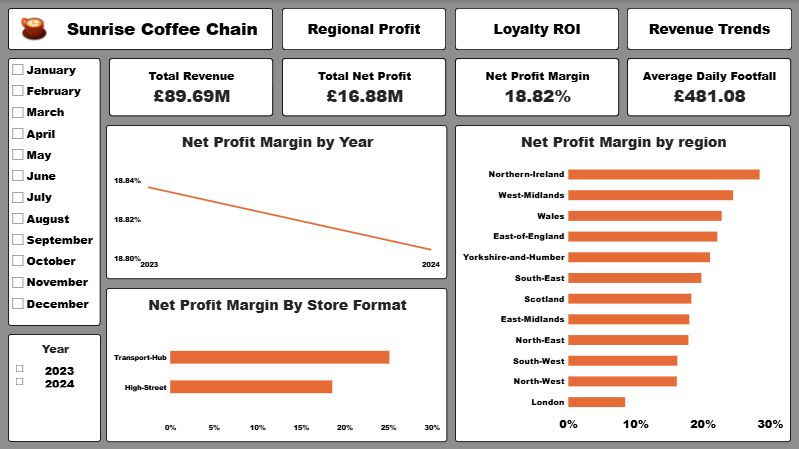

What the dashboard file says about the page in this screenshot:
{"tool":"powerbi","page":{"name":"Regional Profit","canvas":[1920,1080],"ordinal":0},"visuals":[{"type":"cardVisual","fields":{"Data":["fact_store_monthly_profitability.Total Revenue"]},"box":[262,140,394,140],"z":0},{"type":"cardVisual","fields":{"Data":["fact_store_monthly_profitability.Total Net Profit"]},"box":[676,140,394,140],"z":1000},{"type":"cardVisual","fields":{"Data":["fact_store_monthly_profitability.Net Profit Margin"]},"box":[1091,140,394,140],"z":2000},{"type":"lineChart","fields":{"Category":["dim_date.full_date.Variation.Date Hierarchy.Year"],"Y":["fact_store_monthly_profitability.Net Profit Margin"]},"box":[254.4,300,819,370],"z":3000},{"type":"slicer","fields":{"Values":["dim_date.month_name"]},"box":[20,140,222,643.2],"z":4000},{"type":"listSlicer","title":"Year","fields":{"Values":["dim_date.year"]},"box":[19.2,801.6,223.2,259.2],"z":5000},{"type":"barChart","title":"Net Profit Margin By Store Format","fields":{"Category":["dim_store.store_format"],"Y":["fact_store_monthly_profitability.Net Profit Margin"]},"box":[254.4,690,819,370],"z":6000},{"type":"barChart","fields":{"Category":["dim_store.region"],"Y":["fact_store_monthly_profitability.Net Profit Margin"]},"box":[1092,300,806.4,760.8],"z":7000},{"type":"cardVisual","fields":{"Data":["Avg(fact_store_monthly_profitability.avg_daily_footfall)"]},"box":[1505,140,394,140],"z":8000},{"type":"actionButton","box":[676.8,20,393.6,100.8],"z":9000},{"type":"actionButton","box":[1092,20,393.6,100.8],"z":10000},{"type":"actionButton","box":[1504.8,20,396,100.8],"z":11000},{"type":"actionButton","box":[20,20,636,100.8],"z":12000}]}

Visuals, with their boxes in screenshot pixels (x1, y1, x2, y2), scaled from the page's 1920x1080 canvas onto the 799x449 screenshot:
cardVisual - fact_store_monthly_profitability.Total Revenue: 109:58:273:116
cardVisual - fact_store_monthly_profitability.Total Net Profit: 281:58:445:116
cardVisual - fact_store_monthly_profitability.Net Profit Margin: 454:58:618:116
lineChart - dim_date.full_date.Variation.Date Hierarchy.Year x fact_store_monthly_profitability.Net Profit Margin: 106:125:447:279
slicer - dim_date.month_name: 8:58:101:326
"Year" listSlicer: 8:333:101:441
"Net Profit Margin By Store Format" barChart: 106:287:447:441
barChart - dim_store.region x fact_store_monthly_profitability.Net Profit Margin: 454:125:790:441
cardVisual - Avg(fact_store_monthly_profitability.avg_daily_footfall): 626:58:790:116
actionButton: 282:8:445:50
actionButton: 454:8:618:50
actionButton: 626:8:791:50
actionButton: 8:8:273:50
